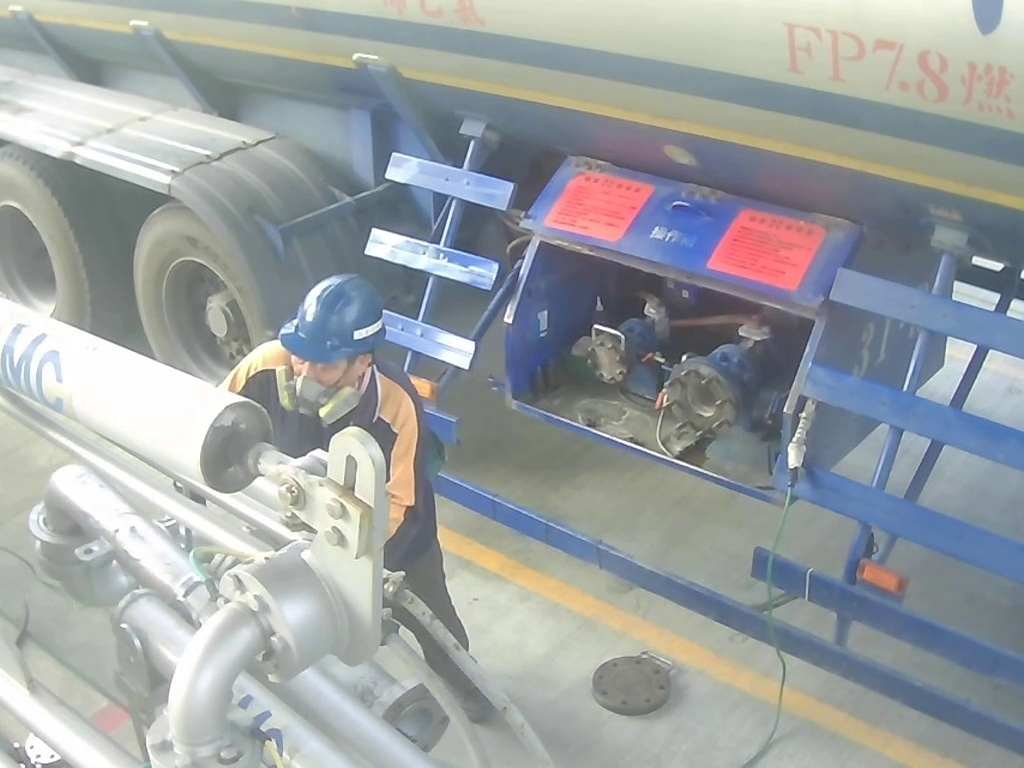helmet: (270, 266, 395, 424)
mask: (273, 362, 361, 423)
person: (145, 262, 504, 755)
